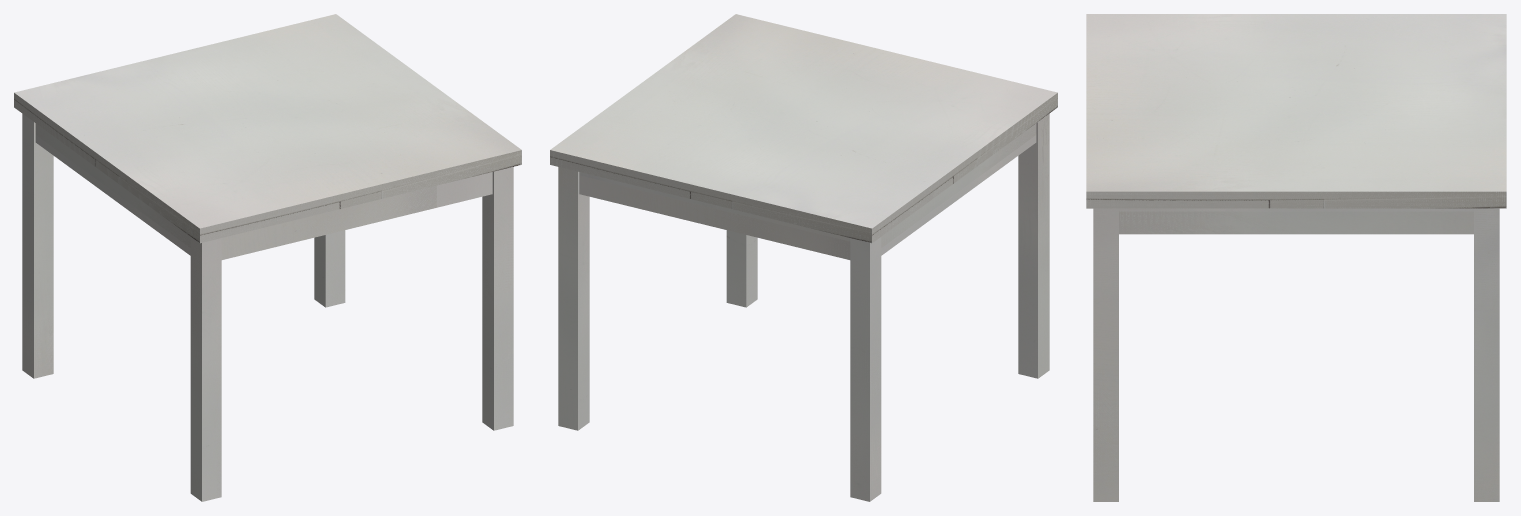
The model's file is table_ikea_bjursta.dae.
The picture shows the model from 3 angles, left to right: view 1: azimuth 30°, elevation 25°; view 2: azimuth 150°, elevation 25°; view 3: azimuth 270°, elevation 25°; orthographic projection. The views are drawn at different scales.
Visible parts, largest first — view 1: SketchUp (×3); view 2: SketchUp (×3); view 3: SketchUp (×3).
Part boxes in pixels (left/top/right/bottom): SketchUp (×3): left=14, top=14, right=521, bottom=501; SketchUp (×3): left=550, top=14, right=1057, bottom=501; SketchUp (×3): left=1086, top=14, right=1506, bottom=501.
Bounding box in the file's own units: 0.9003 × 0.8995 × 0.7396.
Materials: 2 (2 with a texture image).
